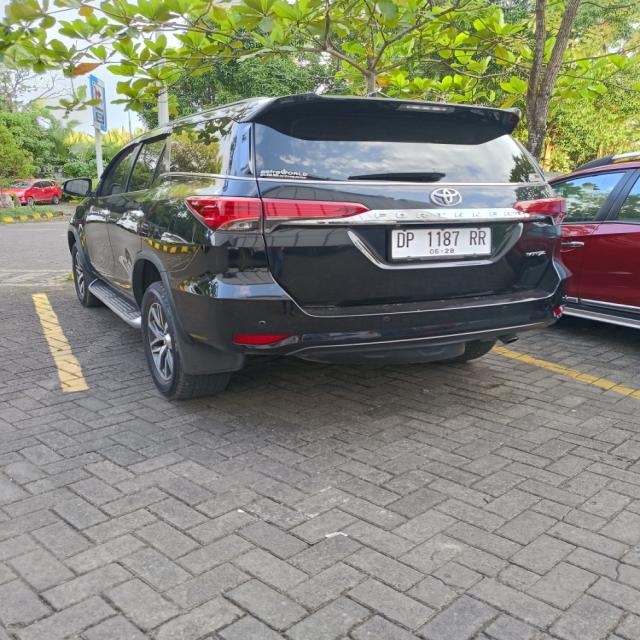plates: (388, 222, 506, 258)
